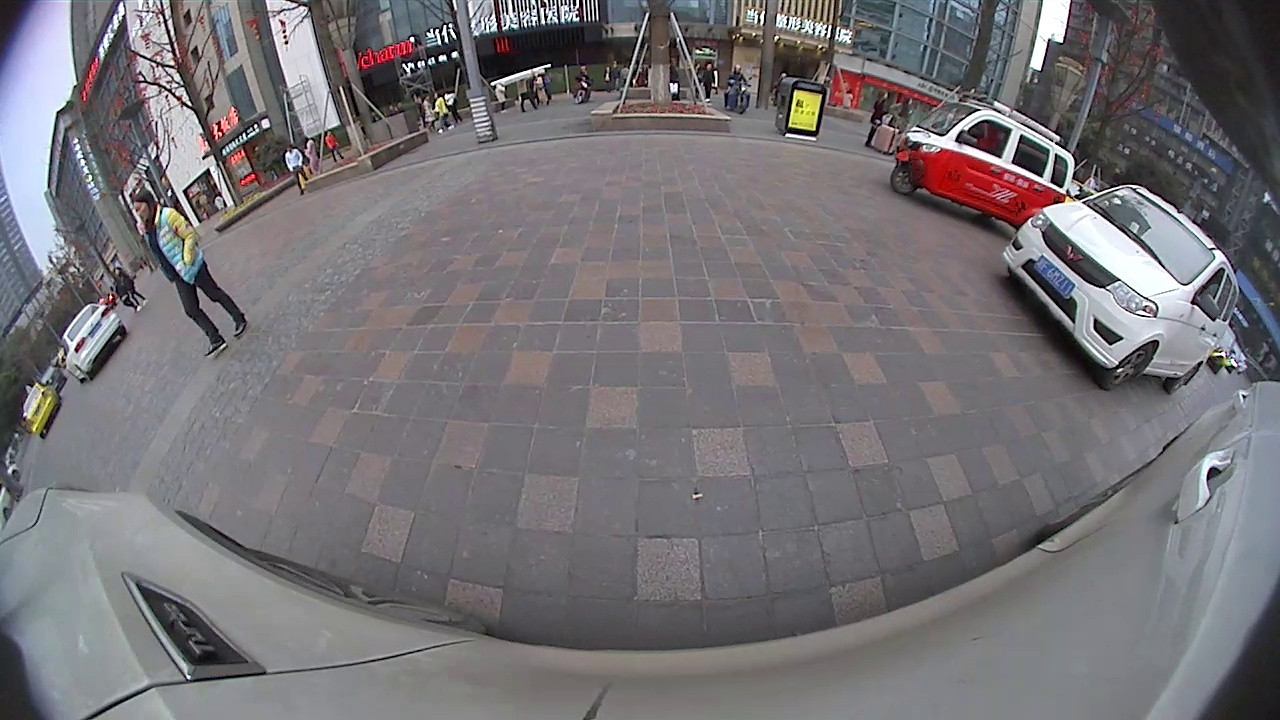car: (1000, 181, 1242, 398), (61, 301, 130, 386), (20, 381, 64, 442)
front: (1100, 342, 1156, 395), (888, 162, 921, 198)
person: (132, 192, 178, 357)
rider: (888, 95, 1076, 235)
